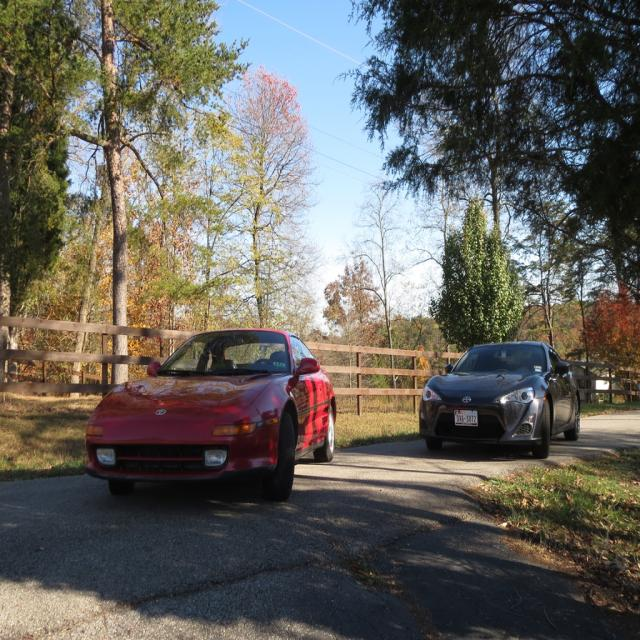car: (82, 325, 337, 494), (419, 339, 579, 451)
